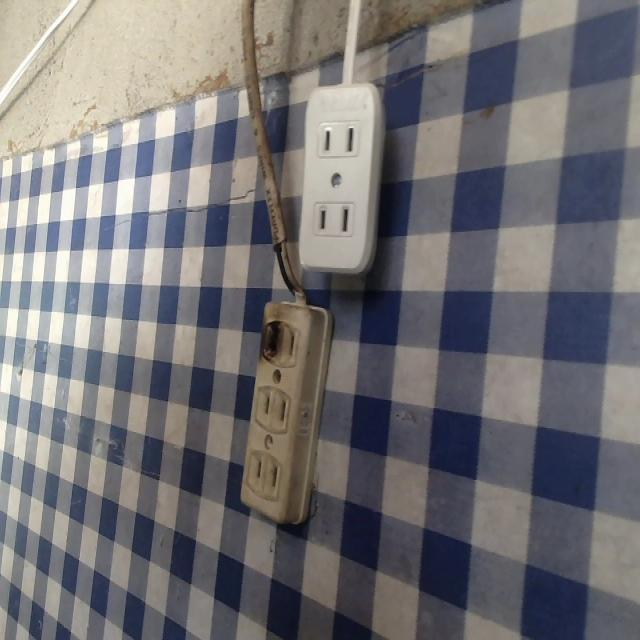-: (257, 315, 287, 365)
